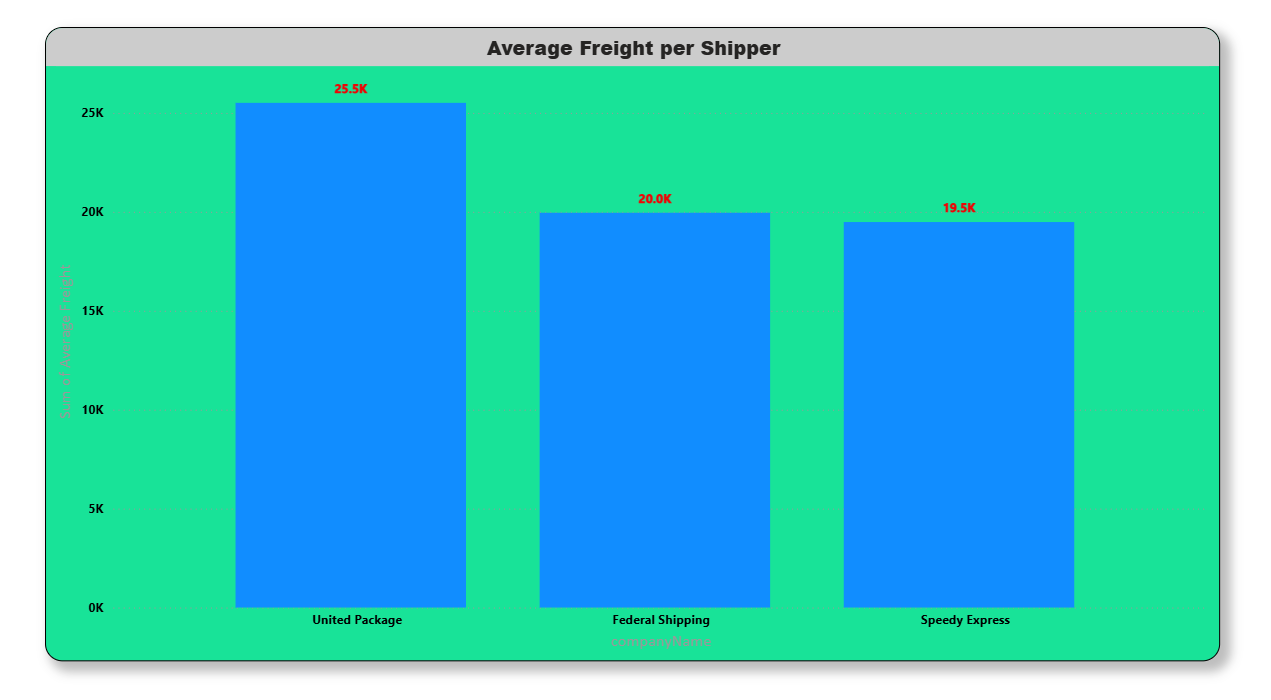

Layout of this report page (visuals, bound fields, positions):
{"tool":"powerbi","page":{"name":"Shipping Analysis","canvas":[1280,720],"ordinal":3},"visuals":[{"type":"columnChart","title":"Average Freight per Shipper","fields":{"Category":["shippers.companyName"],"Y":["Sum(orders.Average Freight)"]},"box":[68.1,49.6,1142.9,616.7],"z":0}]}

Visuals, with their boxes in screenshot pixels (x1, y1, x2, y2), scaled from the page's 1280x720 canvas onto the 1271x700 screenshot:
"Average Freight per Shipper" columnChart: 68,48,1202,648
